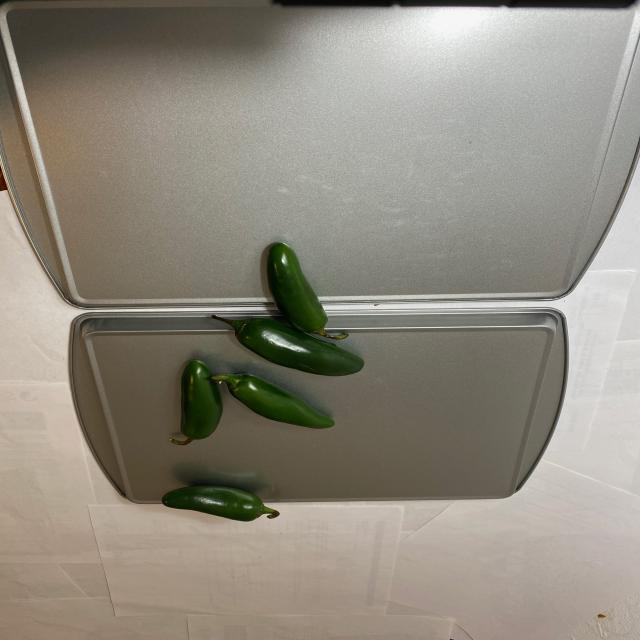chilli: (152, 239, 368, 520)
